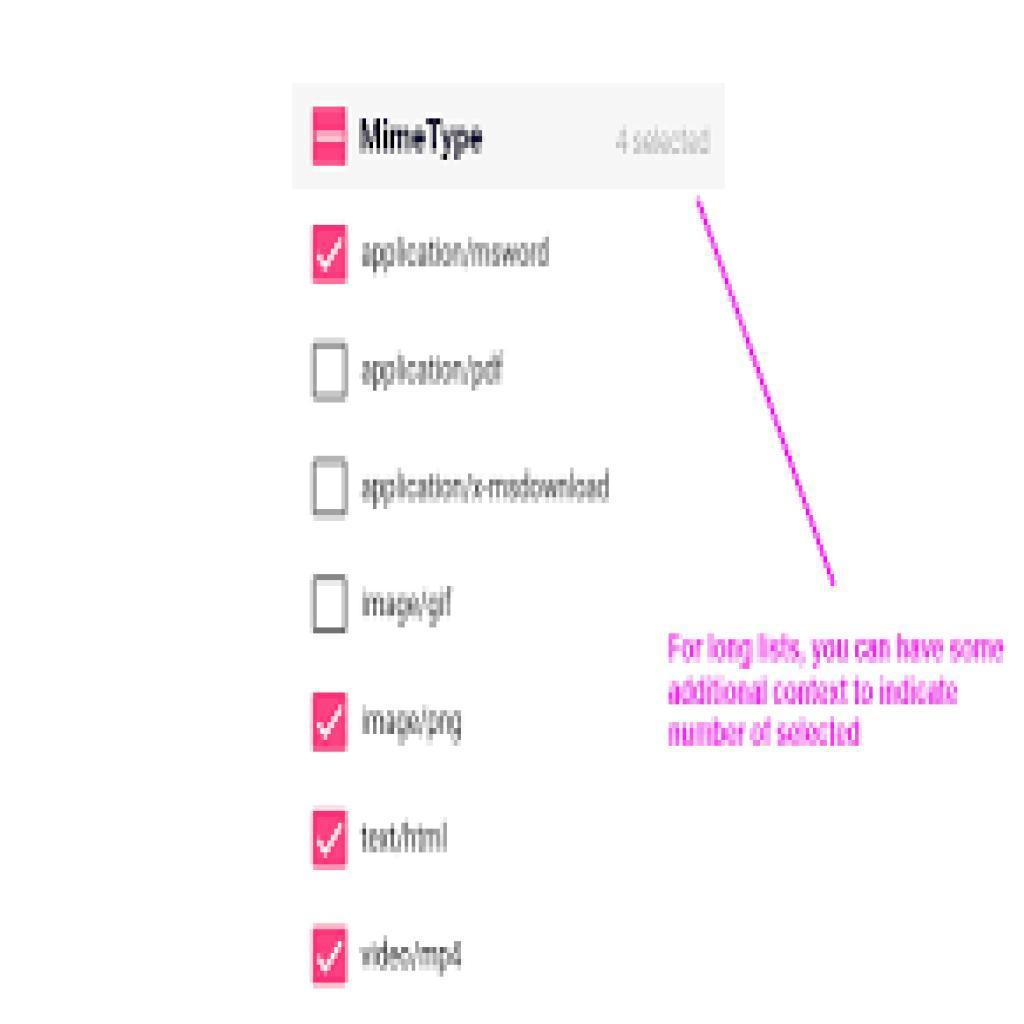checkbox: (313, 342, 350, 400), (314, 225, 347, 287), (314, 692, 347, 752), (313, 812, 348, 868), (314, 576, 350, 630), (315, 930, 348, 986), (317, 460, 349, 515)
